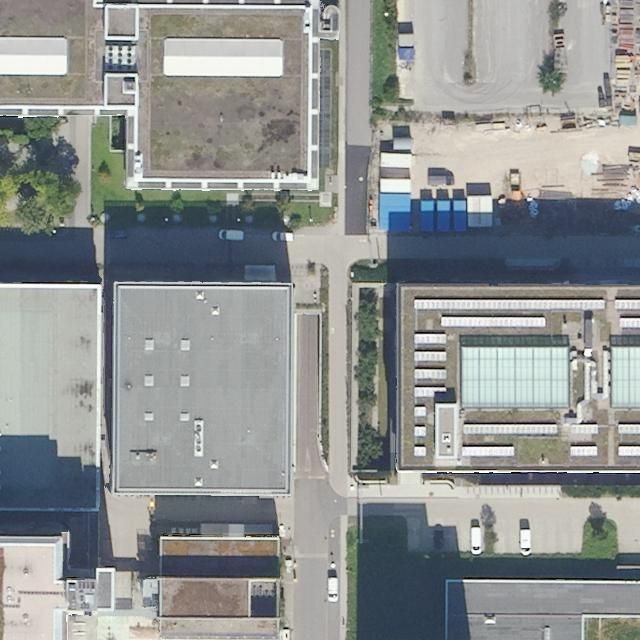PV: (414, 299, 605, 313), (620, 317, 639, 329), (414, 444, 426, 456)
